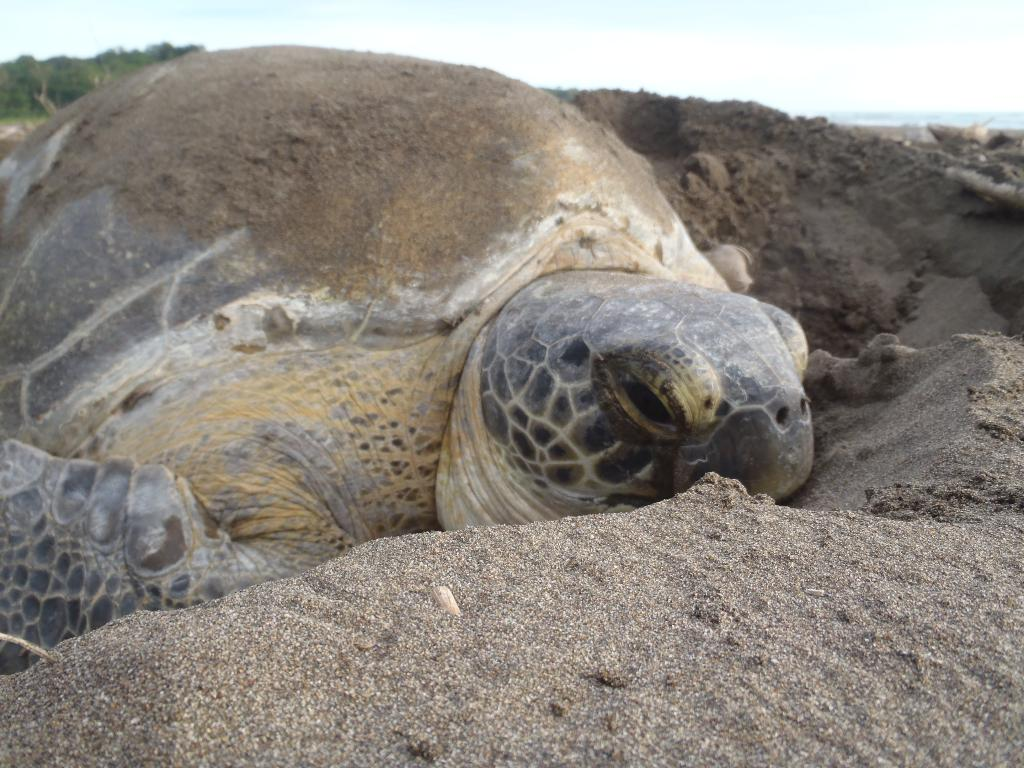Sea turtles: (0, 39, 818, 680)
